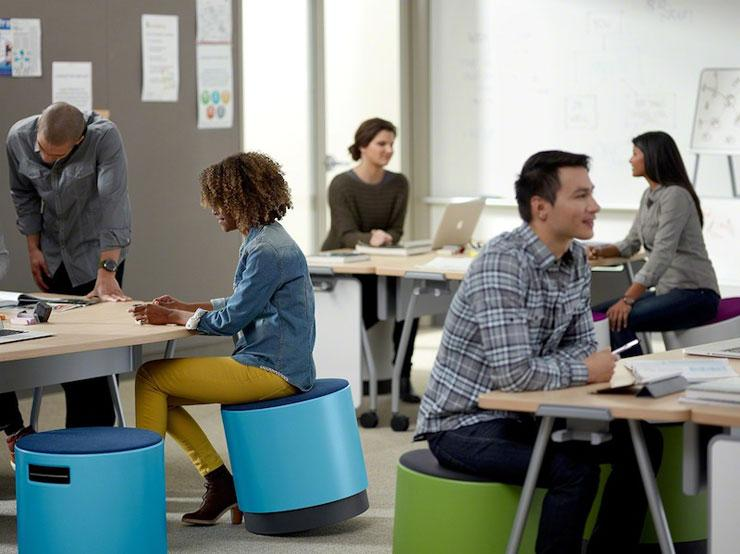chairs: (215, 380, 377, 537), (18, 428, 169, 554), (393, 446, 541, 554)
